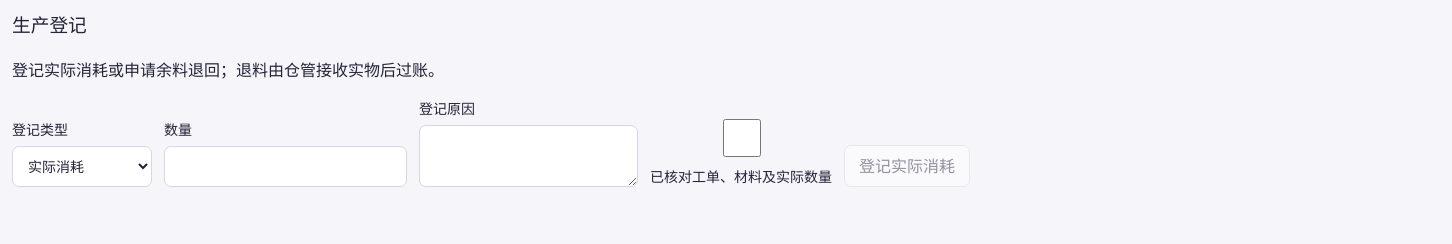
Scenario: offers scoped return locations, requires warehouse receipt and keeps formal permission separate
The width and height of the screenshot is (1452, 244).
Select "退料申请" in the dropdown labelled "登记类型" at (82, 166), box [12,146,152,186]
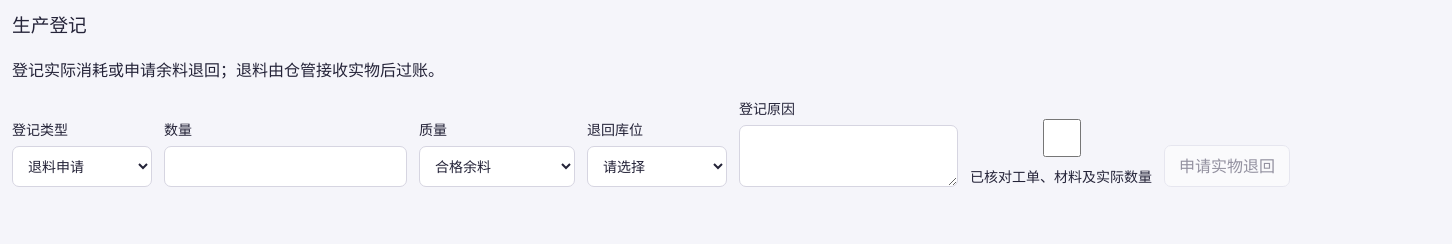
Select "原料存储位" in the dropdown labelled "退回库位" at (657, 166), box [587,146,727,186]
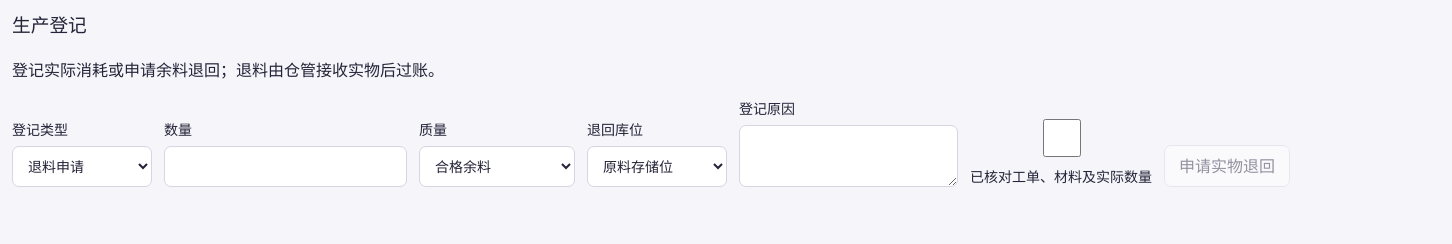
Type "1" into the field labelled "数量" at (286, 166), box [164,146,407,186]
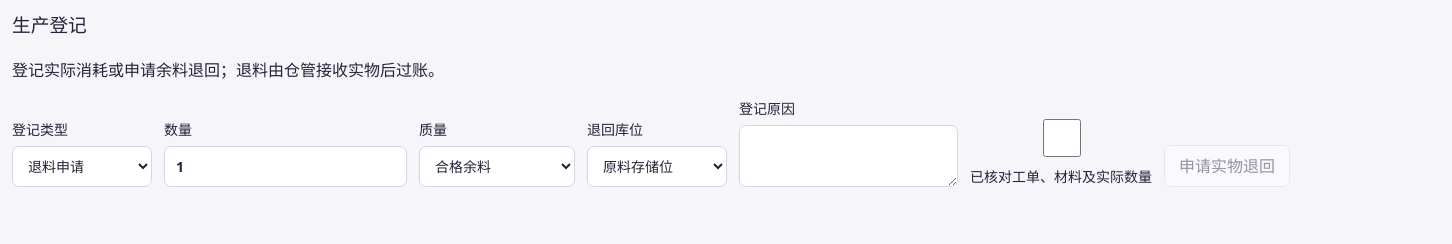
Type "余料" into the text box labelled "登记原因" at (848, 156), box [739,124,958,186]
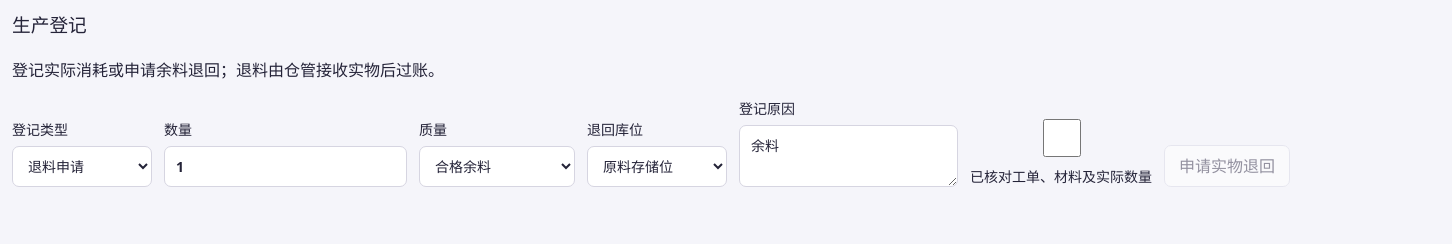
Click the checkbox labelled "已核对工单、材料及实际数量" at (1062, 138), box [970,118,1152,156]
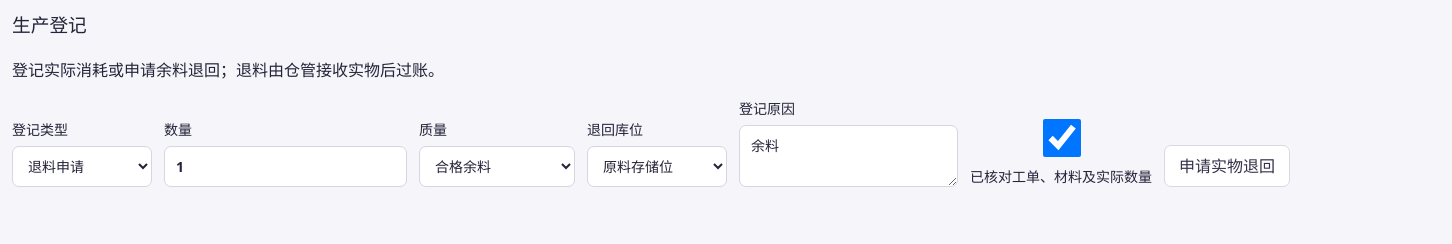
Submit the form, box [12,98,1451,186]
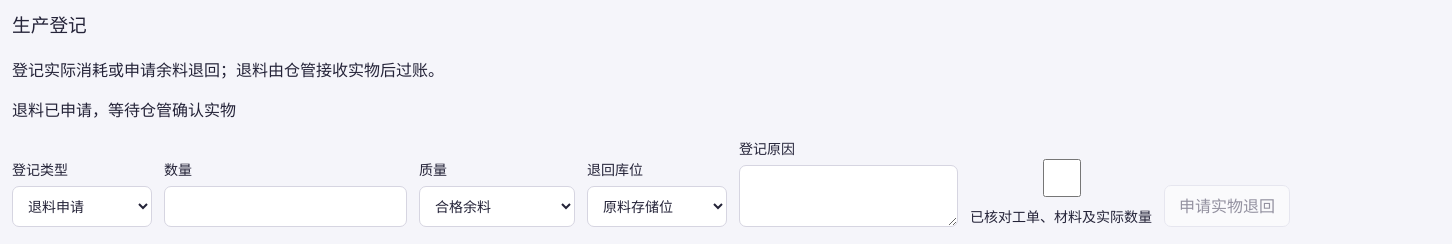
expect the text "等待仓管确认实物" is shown: met, box [12,98,236,120]
